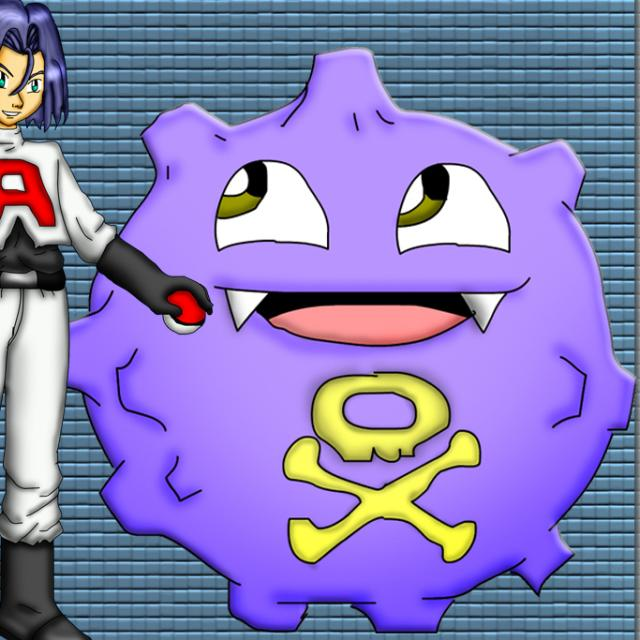Koffing: (80, 40, 640, 612)
